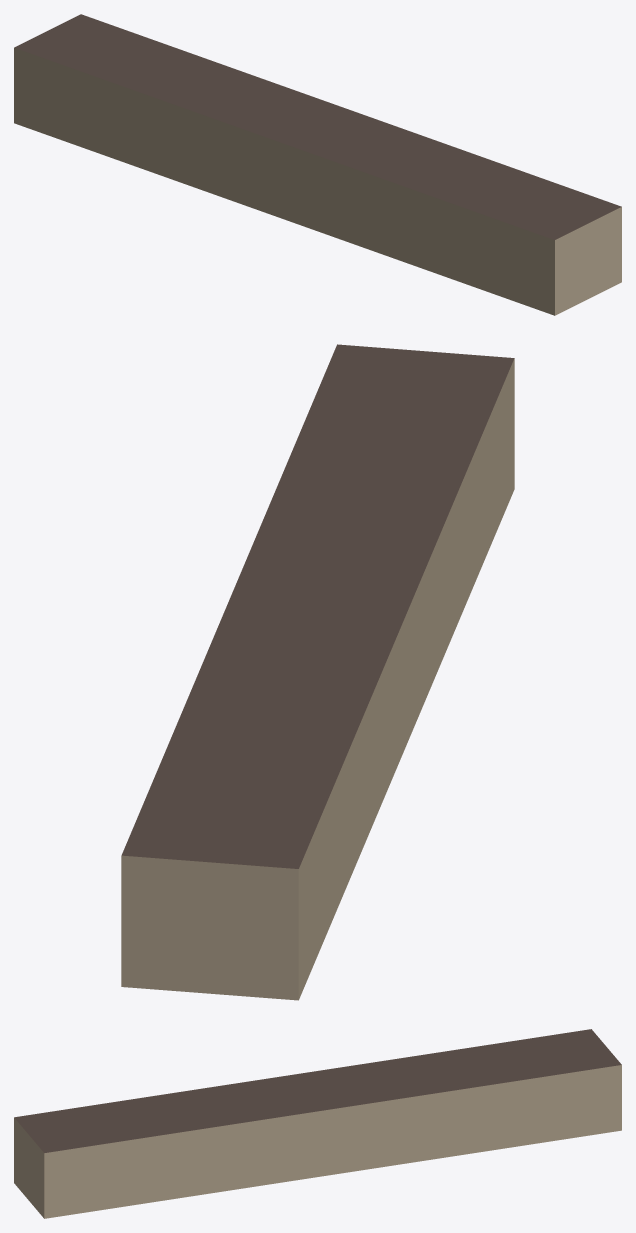
3 renders of one model, top to bottom at view 1: azimuth 30°, elevation 25°; view 2: azimuth 150°, elevation 25°; view 3: azimuth 270°, elevation 25°, orthographic. The views are drawn at different scales.
Parts seen in each view (by area): view 1: HP-w859457511; view 2: HP-w859457511; view 3: HP-w859457511.
Boxes of the visible parts, box(x1,y1,x2,y2) form: HP-w859457511: box(14, 14, 621, 315); HP-w859457511: box(121, 344, 514, 1000); HP-w859457511: box(14, 1029, 621, 1218).
Bounding box in the file's own units: 36.48 × 9 × 75.49.
